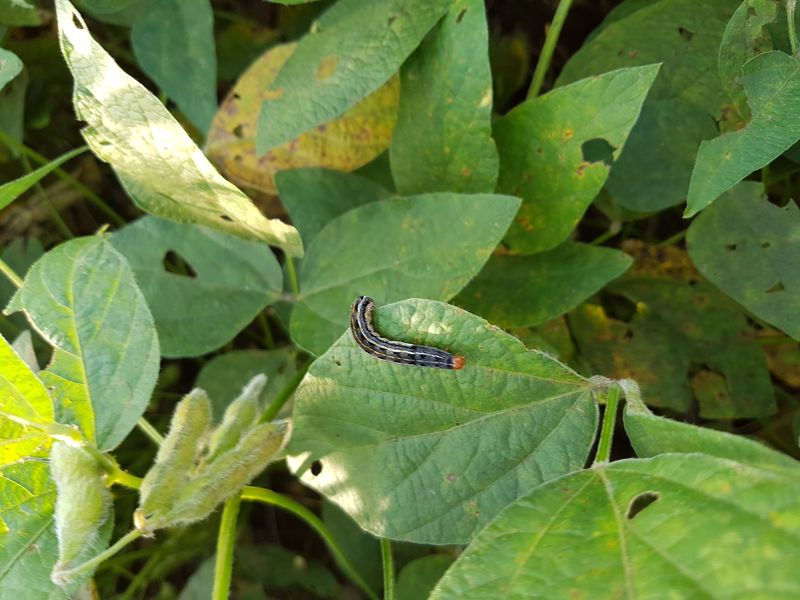Spodoptera_albula: (333, 279, 480, 394)
